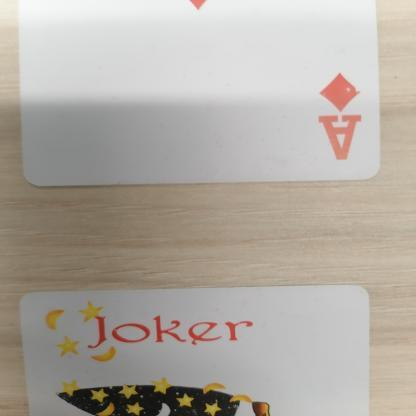AD: (312, 68, 370, 166)
BLACK JOKER: (41, 298, 272, 368)
